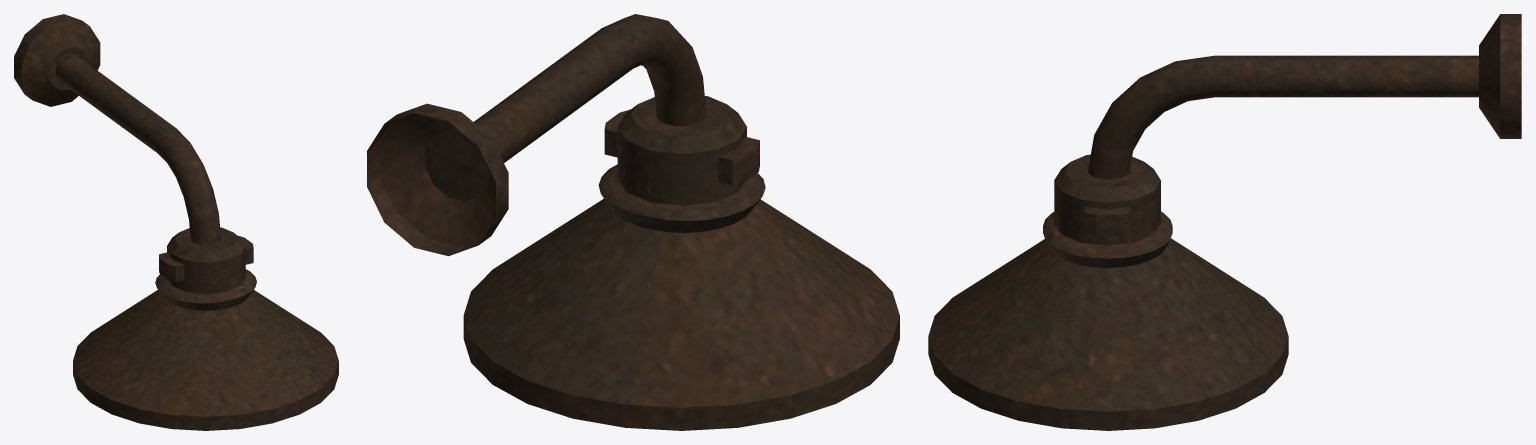
The model's file is lamp_mx_4_on.fbx.
3 views of the same model, side by side, from view 1: azimuth 30°, elevation 25°; view 2: azimuth 150°, elevation 25°; view 3: azimuth 270°, elevation 25° (orthographic). The views are drawn at different scales.
Parts seen in each view (by area): view 1: lamp_mx_4_on; view 2: lamp_mx_4_on; view 3: lamp_mx_4_on.
Part boxes in pixels (x1,y1,x2,y2): lamp_mx_4_on: (14, 14, 338, 430); lamp_mx_4_on: (367, 14, 899, 430); lamp_mx_4_on: (928, 14, 1521, 430).
Bounding box in the file's own units: 0.51 × 0.84 × 0.5559.
